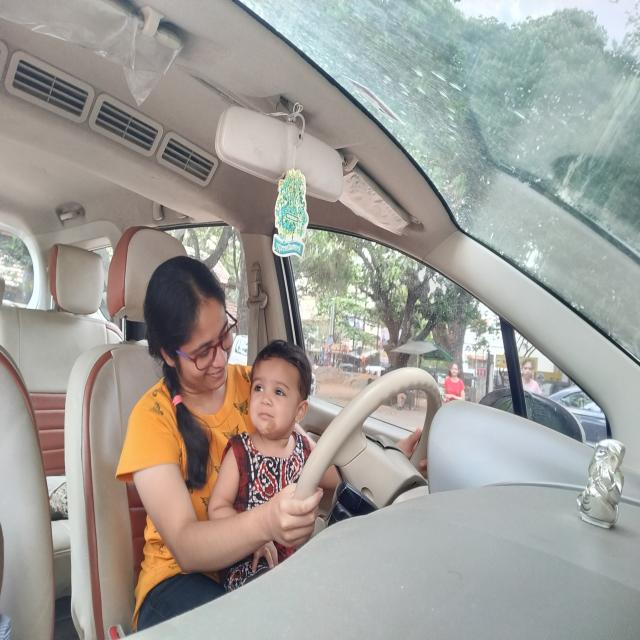child: (254, 347, 305, 444)
person: (144, 272, 236, 394)
